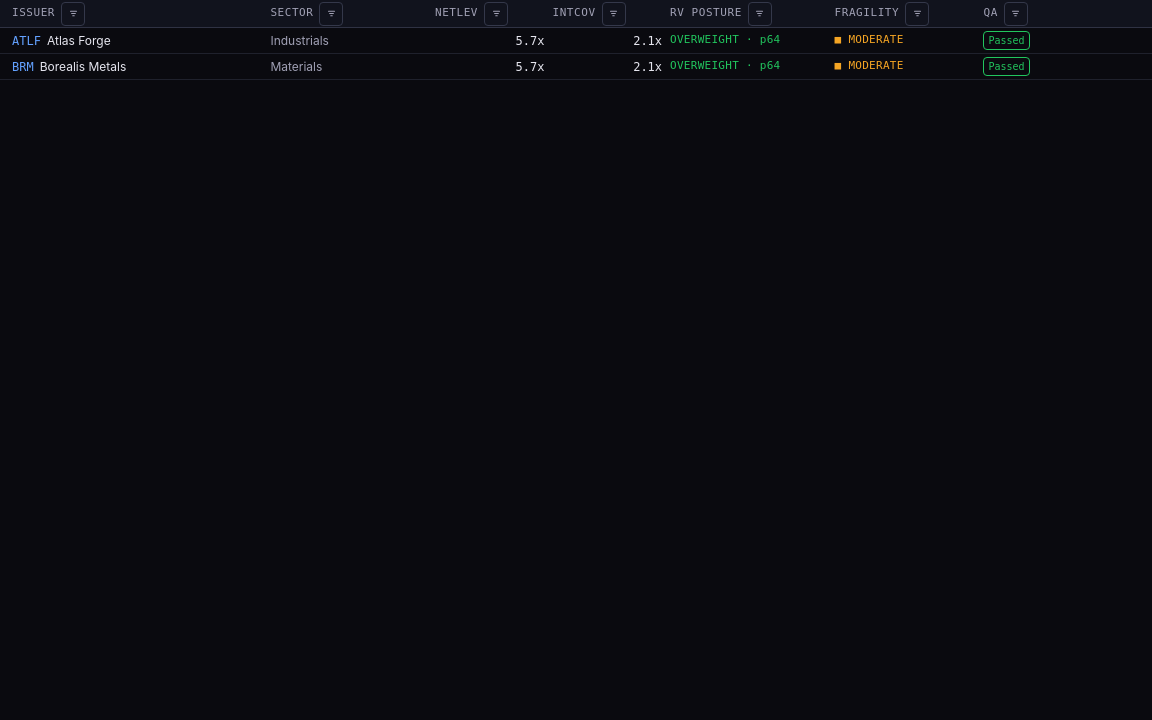
Test case: Current Command Center component contracts › command-23 command-24 renders, selects, and filters the virtualized live-coverage worklist
The width and height of the screenshot is (1152, 720).
Check: the text "5.7x" is shown 2 times, box x1=516 y1=34 x2=544 y2=48; x1=516 y1=60 x2=544 y2=74
Check: the text "2.1x" is shown 2 times, box x1=633 y1=34 x2=662 y2=48; x1=633 y1=60 x2=662 y2=74
Press Space in the row named "ATLF Atlas Forge details", box x1=0 y1=28 x2=1151 y2=54
Click the button named "Filter Sector" at (332, 14), box x1=320 y1=2 x2=344 y2=26
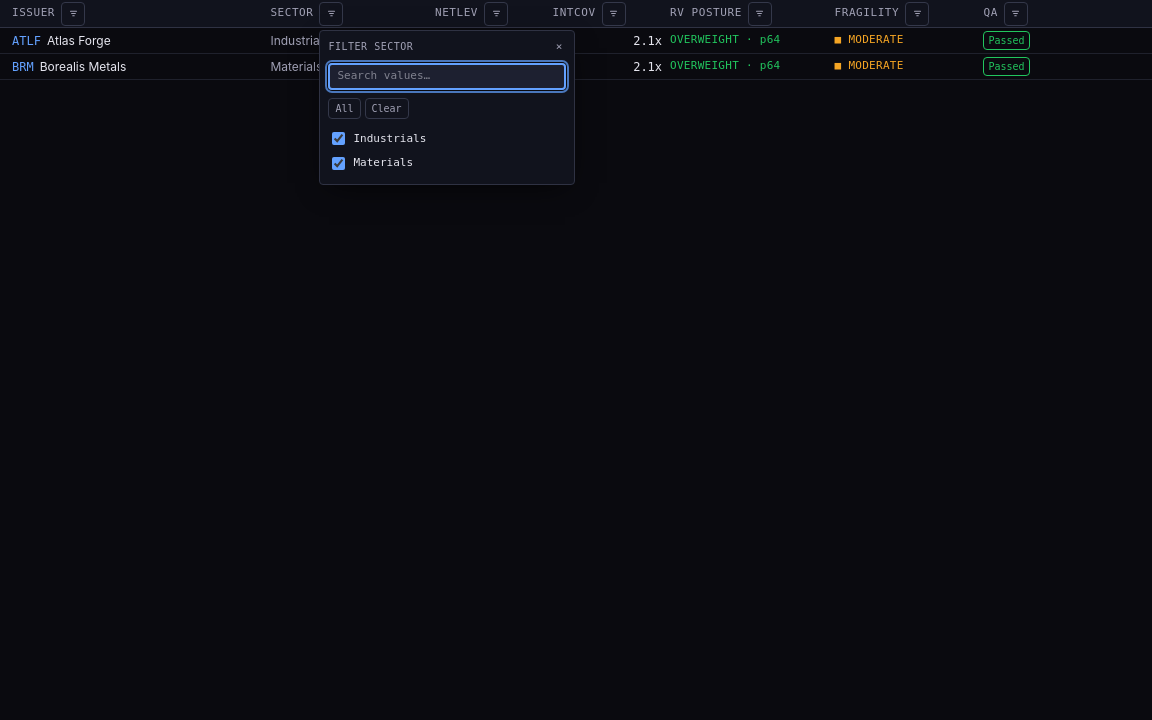
Click the checkbox labelled "Industrials" at (339, 139), box x1=332 y1=132 x2=346 y2=145
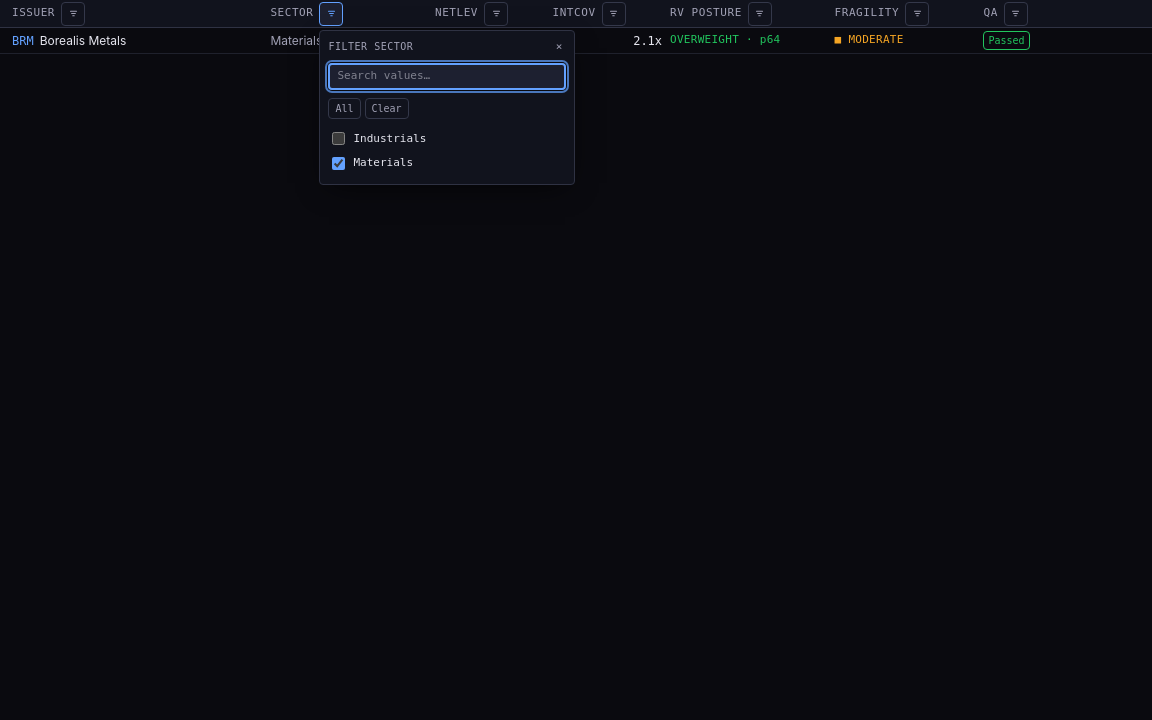
Check: the link "Borealis Metals" is shown, box x1=40 y1=32 x2=126 y2=50
Check: the link "Atlas Forge" is gone
